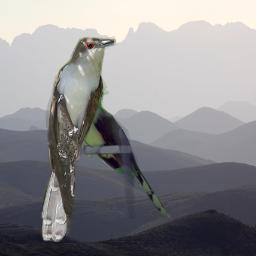Cuckoo: (39, 34, 117, 242), (71, 84, 176, 219)
